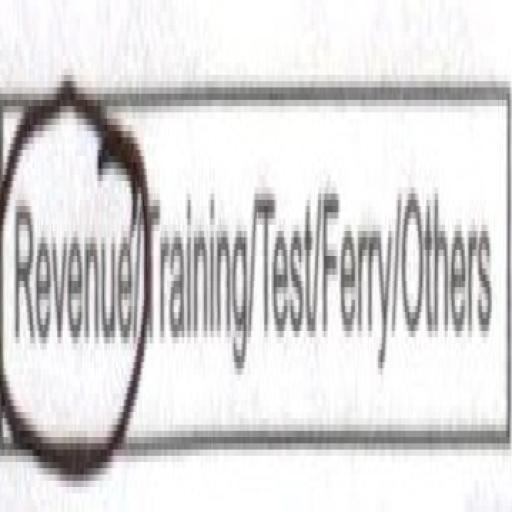check: (0, 52, 146, 457)
